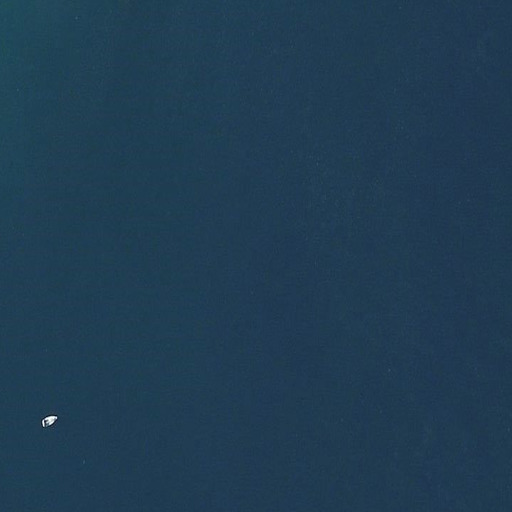ship: (40, 413, 59, 429)
